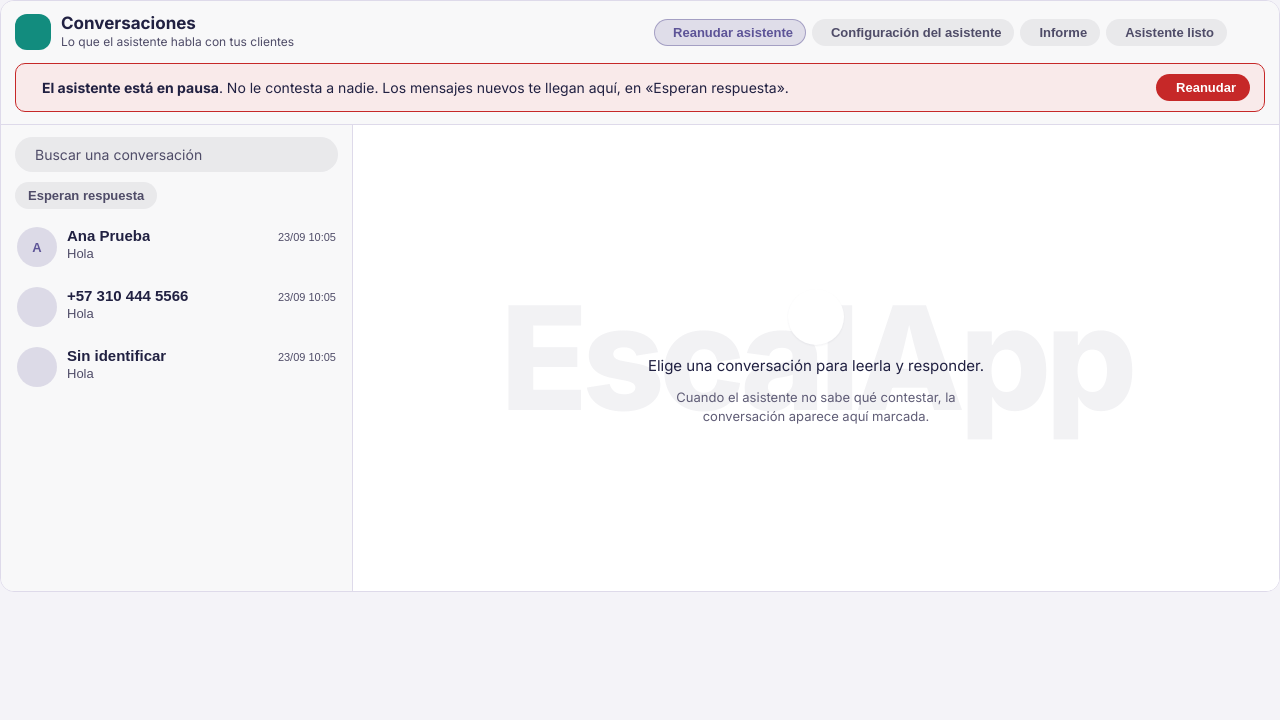
Test: Bandeja — pausa de emergencia del asistente › en pausa, «Reanudar» de la franja lo reactiva
This screenshot has width=1280, height=720.
What coordinates should you click on to do the following:
click the button with class "bdj__pausa-boton"
I would click on:
 (1203, 88)
Its box is x1=1156 y1=74 x2=1250 y2=101.
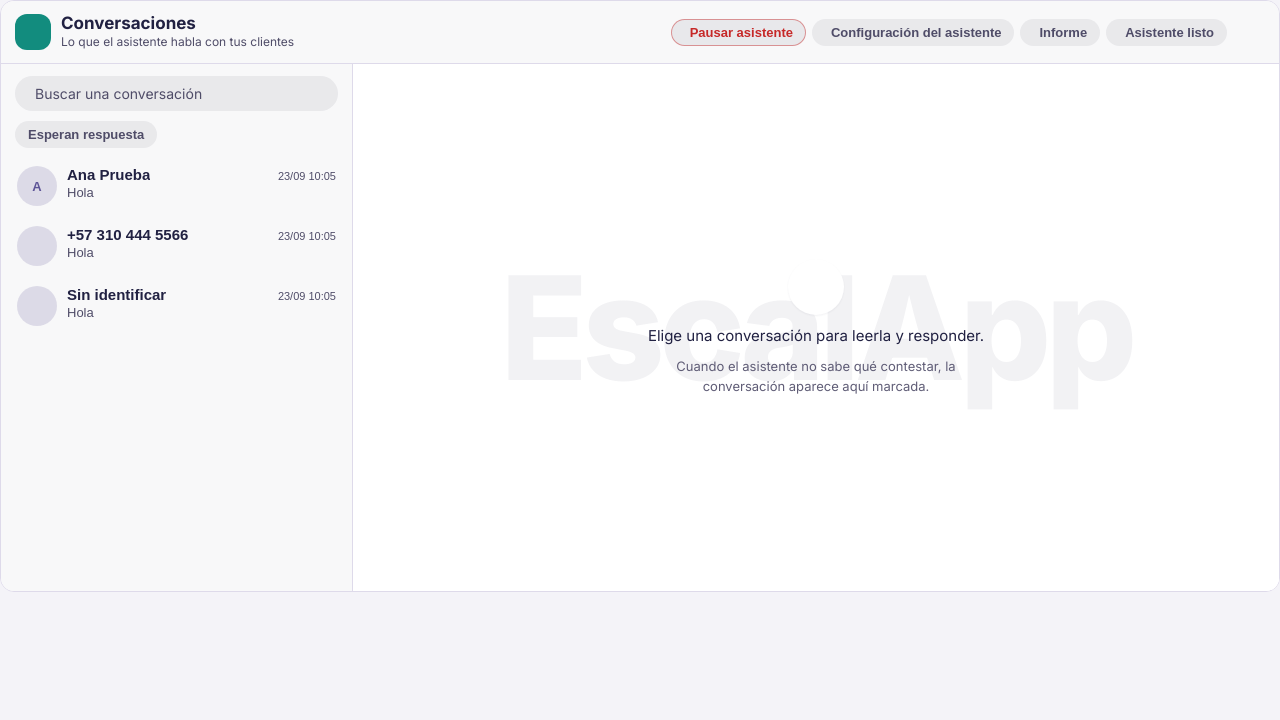
Now the message with class "bdj__pausa" is gone
